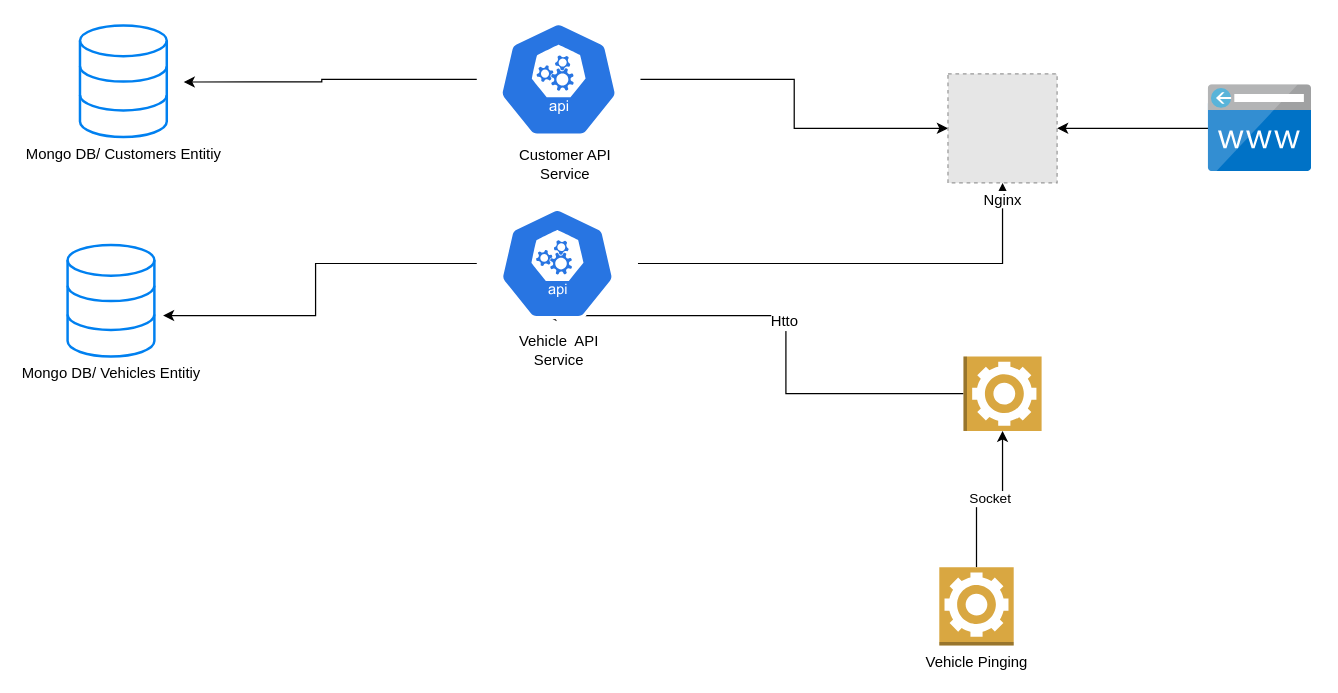
Some shapes in this 1338 by 693 pixel diagram are drawn without their labels. Grey dashed boxes stand in for pictures. The centre of each missing label's shape, as x and y in pixels:
"Pinging Hub" goes at (x=1002, y=393).
"Web App Monitor" goes at (x=1259, y=127).
